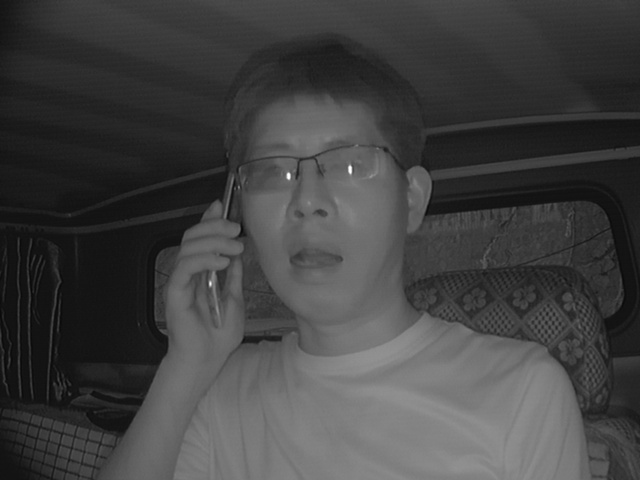hand: (153, 197, 251, 369)
